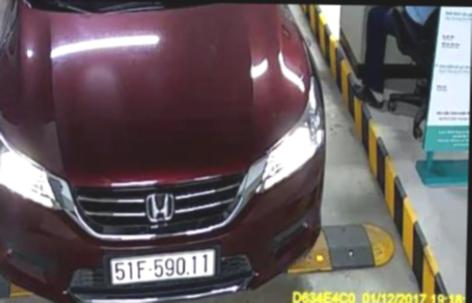License_Plate: (105, 250, 221, 286)
